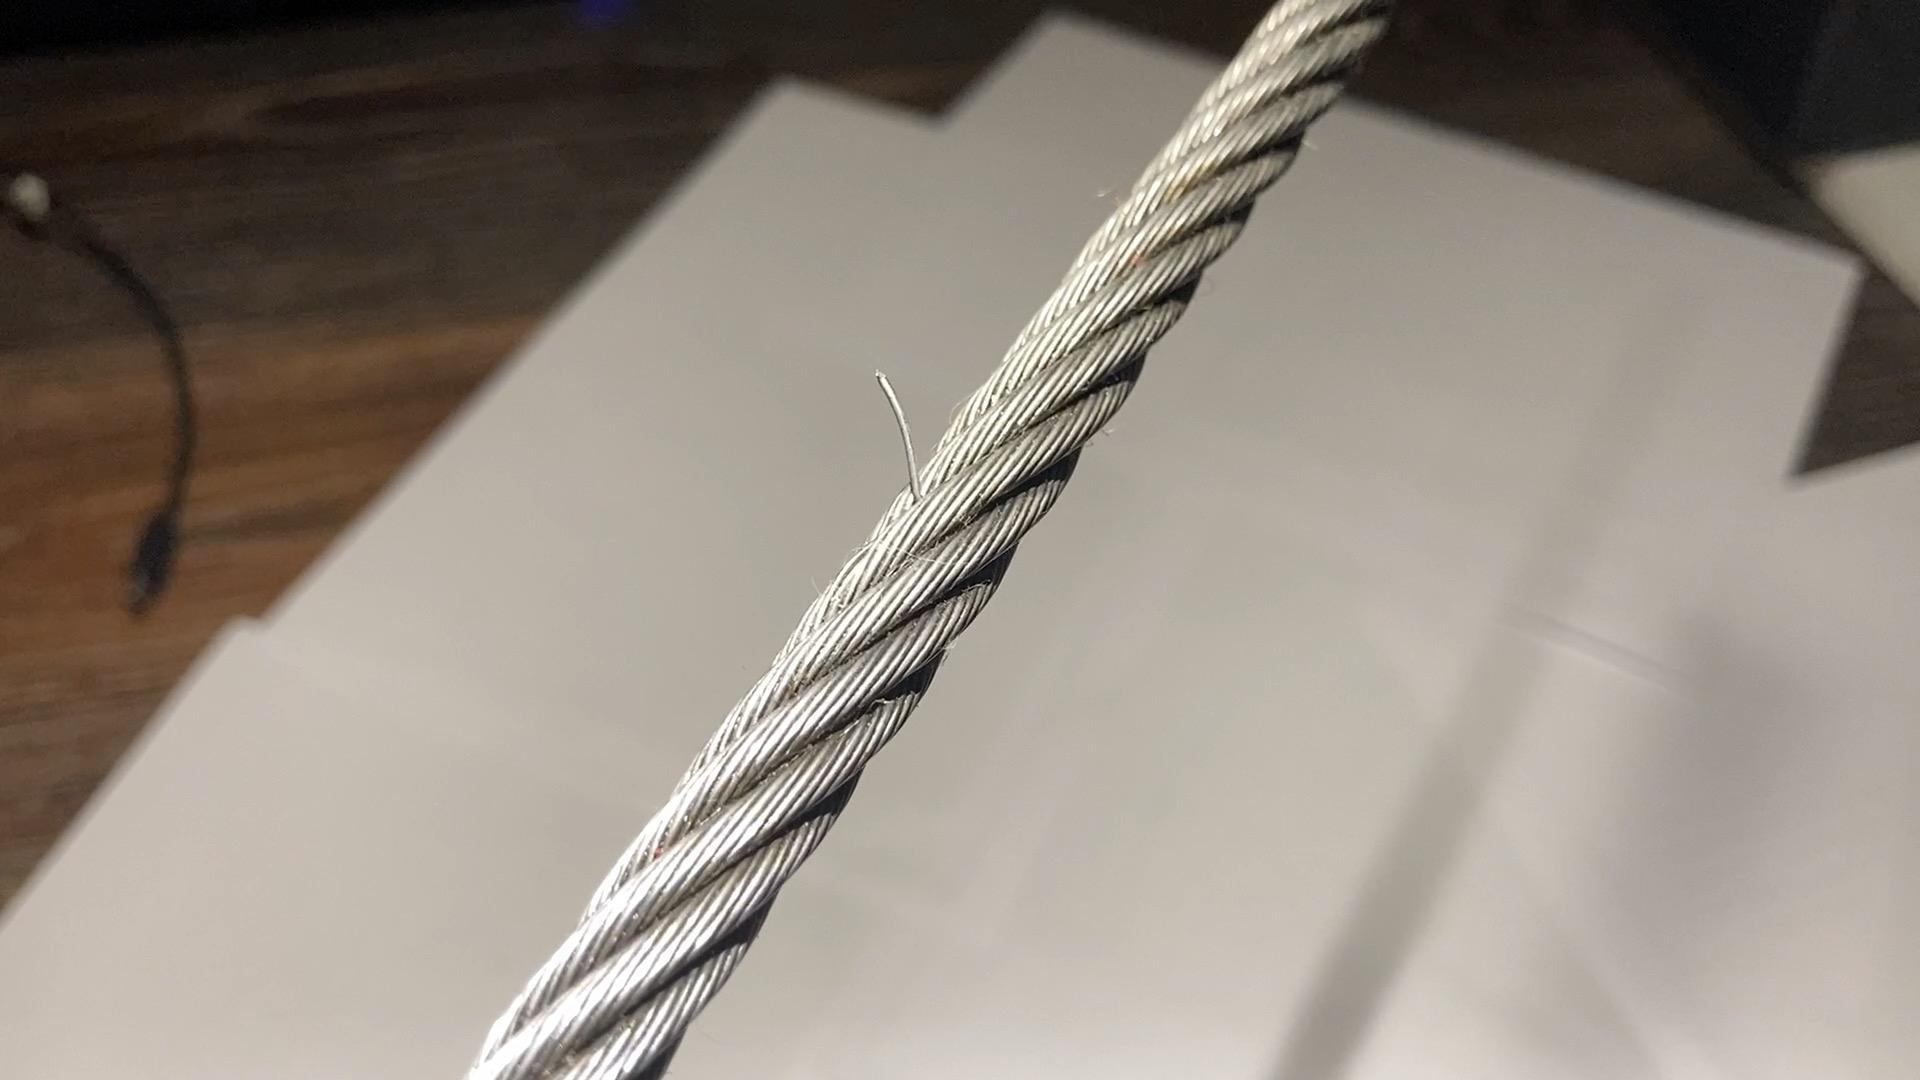break: (858, 349, 938, 537)
